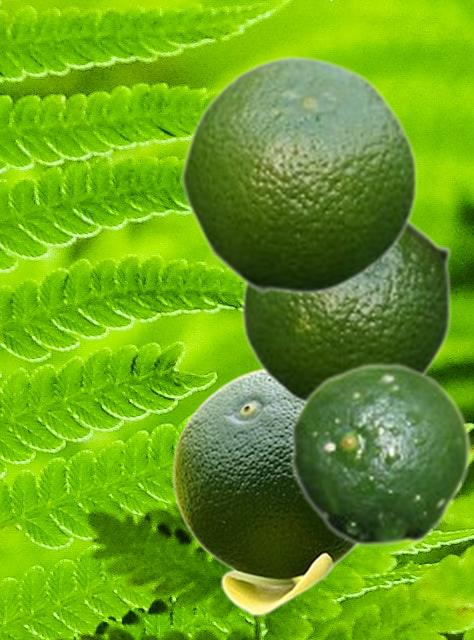calamansi: (179, 53, 418, 294), (172, 366, 357, 615), (241, 218, 452, 404), (289, 362, 471, 547)
